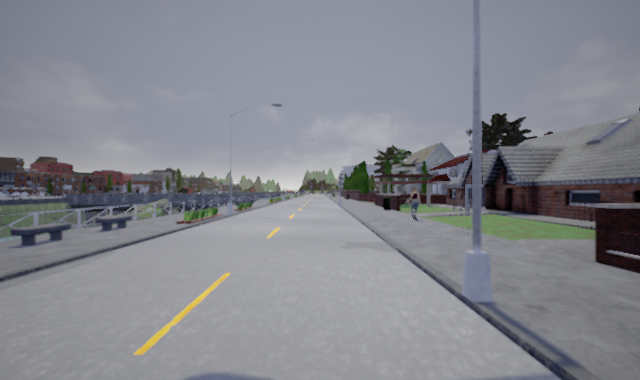pedestrian: (407, 185, 423, 220)
